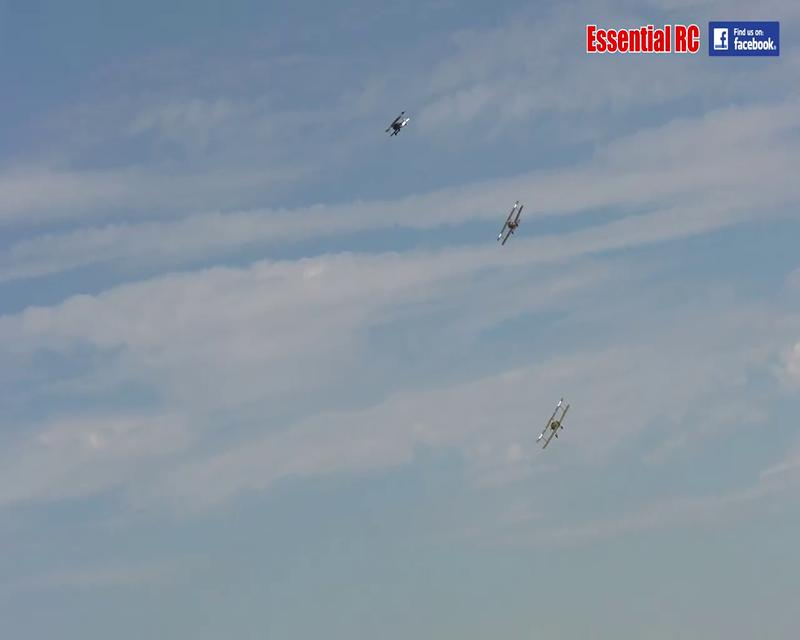UAV: (536, 396, 570, 451), (494, 199, 526, 245), (384, 109, 412, 141)
